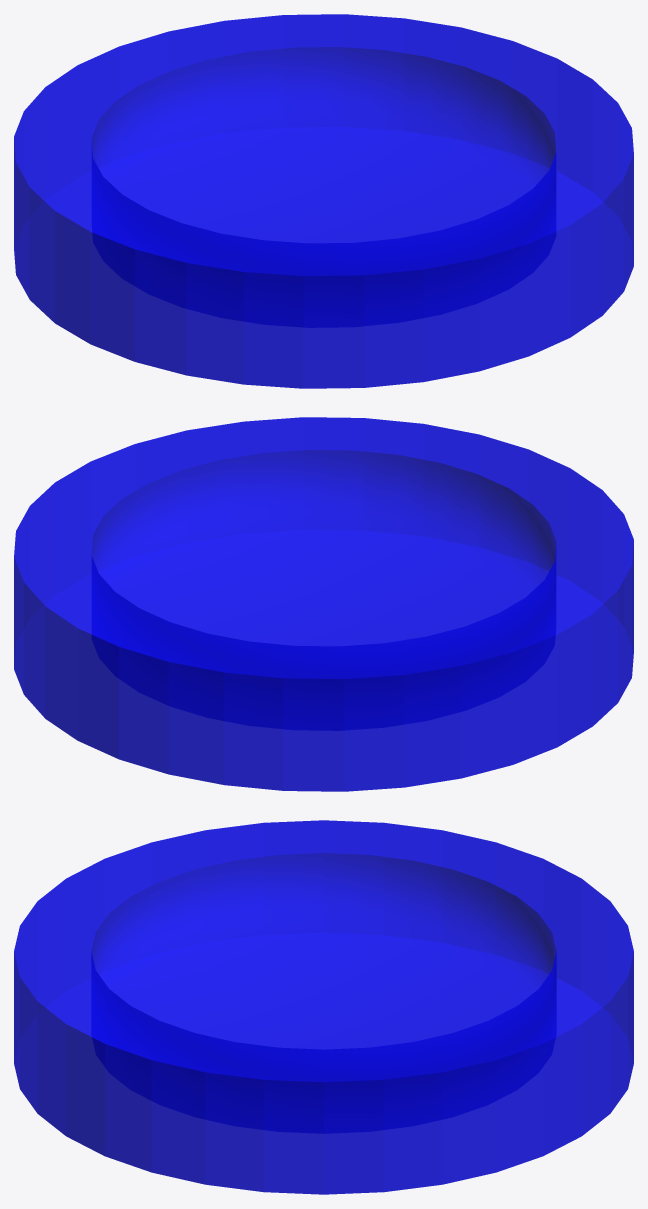
The model's file is BlueNotePlayer.obj.
3 views of the same model, one above another, from view 1: azimuth 30°, elevation 25°; view 2: azimuth 150°, elevation 25°; view 3: azimuth 270°, elevation 25° (orthographic).
Visible parts, largest first — view 1: Cylinder; view 2: Cylinder; view 3: Cylinder.
Part boxes in pixels (<box>): Cylinder: <box>14,14,633,388</box>; Cylinder: <box>14,417,633,791</box>; Cylinder: <box>14,820,633,1194</box>.
Size of the model in its own units: 2 by 0.4 by 2.
